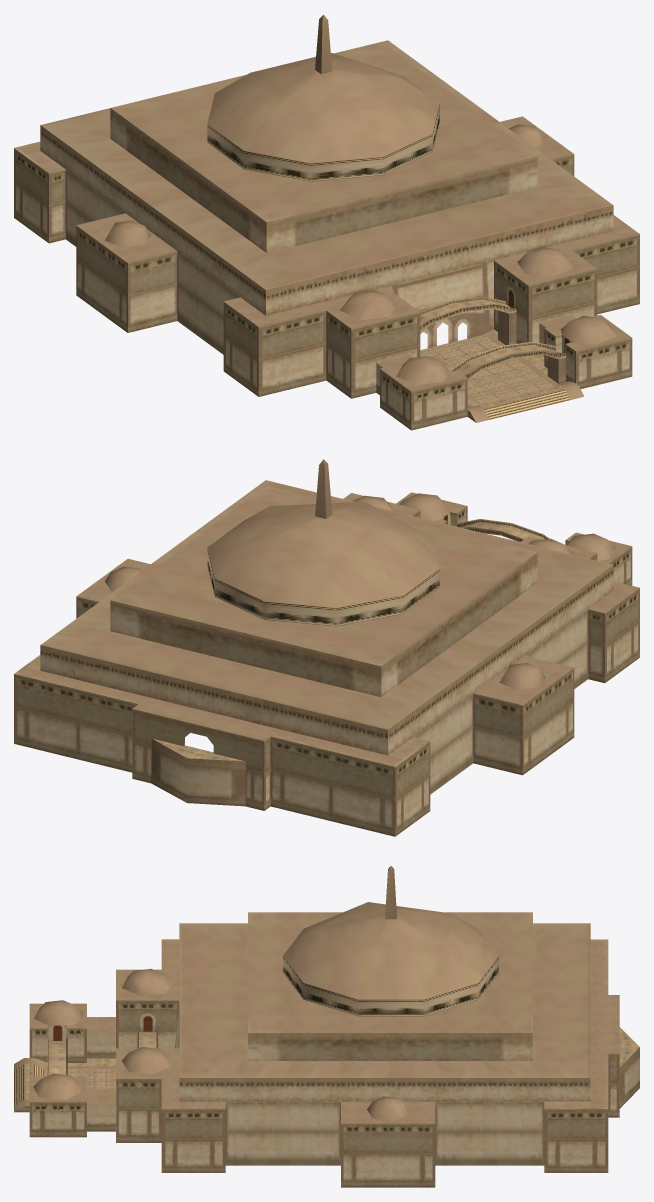
Rendered from mun_tato_capitol_s01_r0_mesh_l3.fbx.
The picture shows the model from 3 angles, top to bottom: view 1: azimuth 30°, elevation 25°; view 2: azimuth 150°, elevation 25°; view 3: azimuth 270°, elevation 25°; orthographic projection. The views are drawn at different scales.
Visible parts, largest first — view 1: mesh_node; view 2: mesh_node; view 3: mesh_node.
Boxes of the visible parts, left/top/right/bottom form: mesh_node: left=14, top=14, right=639, bottom=430; mesh_node: left=14, top=459, right=639, bottom=836; mesh_node: left=14, top=866, right=639, bottom=1187.
Size of the model in its own units: 82.46 by 43.08 by 110.
